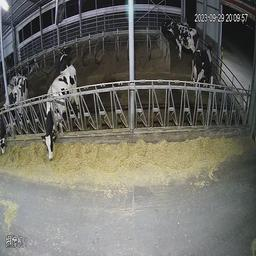cow: (31, 59, 91, 178), (1, 82, 28, 158), (189, 38, 217, 104), (169, 19, 201, 57), (56, 43, 76, 68)
